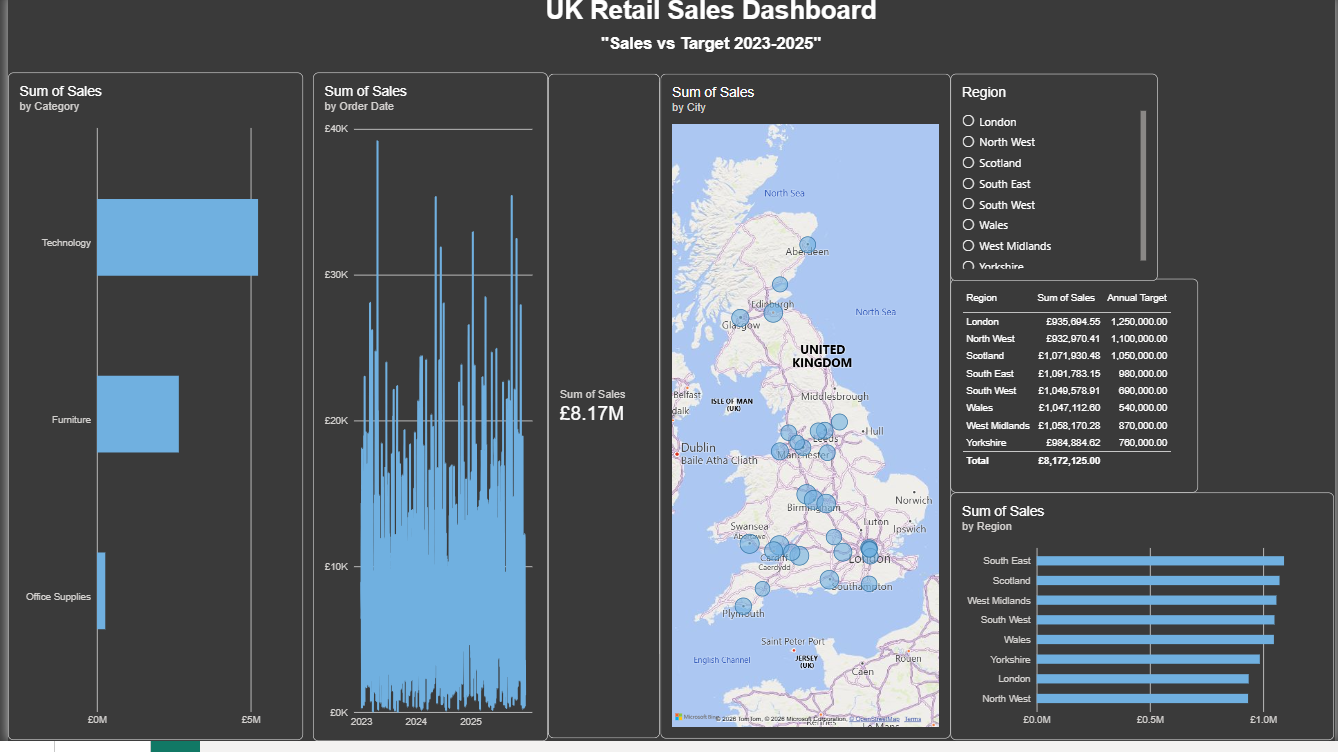

The page's visual inventory and layout, read from the dashboard file:
{"tool":"powerbi","page":{"name":"Page 1","canvas":[1920,1080],"ordinal":0},"visuals":[{"type":"clusteredBarChart","fields":{"Category":["UK_Retail_Sales.Category"],"Y":["Sum(UK_Retail_Sales.Sales)"]},"box":[0,112.2,427.1,966.4],"z":0},{"type":"lineChart","fields":{"Category":["UK_Retail_Sales.Order Date.Variation.Date Hierarchy.Year"],"Y":["Sum(UK_Retail_Sales.Sales)"]},"box":[441.6,112.2,340.2,968.2],"z":1000},{"type":"cardVisual","fields":{"Data":["Sum(UK_Retail_Sales.Sales)"]},"box":[781.8,114,162.9,962.7],"z":1001},{"type":"map","fields":{"Category":["UK_Retail_Sales.City"],"Size":["Sum(UK_Retail_Sales.Sales)"]},"box":[944.6,114,419.8,962.7],"z":1002},{"type":"tableEx","fields":{"Values":["UK_Retail_Sales.Region","Sum(UK_Retail_Sales.Sales)","UK_Region_Targets.Annual Target"]},"box":[1364.5,410.8,358.3,309.5],"z":1003},{"type":"listSlicer","fields":{"Values":["UK_Retail_Sales.Region"]},"box":[1364.5,114,300,300],"z":1004},{"type":"clusteredBarChart","fields":{"Category":["UK_Retail_Sales.Region"],"Y":["Sum(UK_Retail_Sales.Sales)"]},"box":[1364.5,720.2,555.6,358.3],"z":1005},{"type":"textbox","box":[188.2,0,1731.8,110.4],"z":1006}]}

Visuals, with their boxes in screenshot pixels (x1, y1, x2, y2), scaled from the page's 1920x1080 canvas onto the 1338x752 screenshot:
clusteredBarChart - UK_Retail_Sales.Category x Sum(UK_Retail_Sales.Sales): 0, 78, 298, 751
lineChart - UK_Retail_Sales.Order Date.Variation.Date Hierarchy.Year x Sum(UK_Retail_Sales.Sales): 308, 78, 545, 751
cardVisual - Sum(UK_Retail_Sales.Sales): 545, 79, 658, 750
map - UK_Retail_Sales.City x Sum(UK_Retail_Sales.Sales): 658, 79, 951, 750
tableEx - UK_Retail_Sales.Region x Sum(UK_Retail_Sales.Sales): 951, 286, 1201, 502
listSlicer - UK_Retail_Sales.Region: 951, 79, 1160, 288
clusteredBarChart - UK_Retail_Sales.Region x Sum(UK_Retail_Sales.Sales): 951, 501, 1337, 751
textbox: 131, 0, 1337, 77
